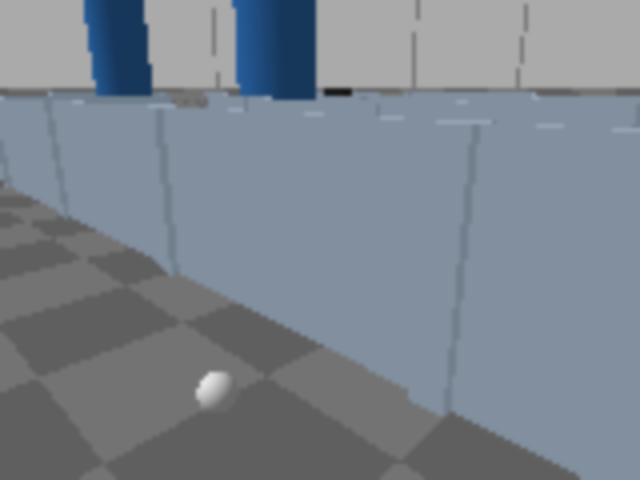puck: (191, 363, 242, 424)
